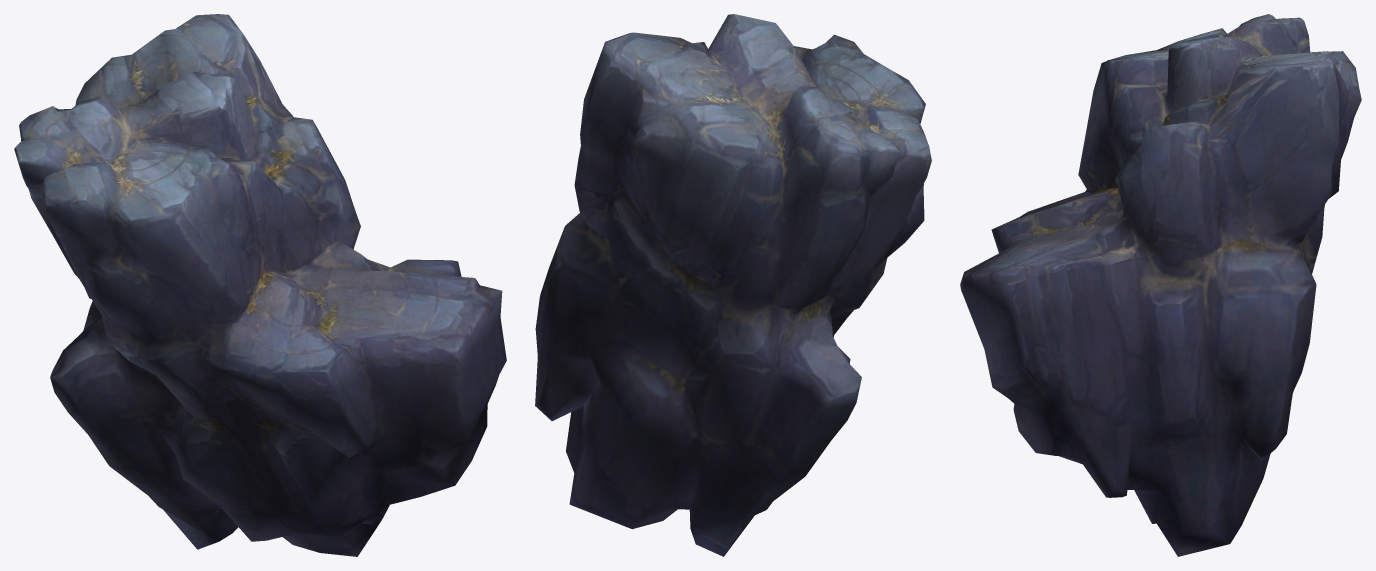
Rendered from Map01_Stone_01B.FBX.
The picture shows the model from 3 angles, left to right: view 1: azimuth 30°, elevation 25°; view 2: azimuth 150°, elevation 25°; view 3: azimuth 270°, elevation 25°; orthographic projection. The views are drawn at different scales.
Visible parts, largest first — view 1: Map01_Stone_01B; view 2: Map01_Stone_01B; view 3: Map01_Stone_01B.
Boxes of the visible parts, x1,y1,x2,y2 form: Map01_Stone_01B: (14, 14, 506, 556); Map01_Stone_01B: (535, 14, 931, 556); Map01_Stone_01B: (960, 14, 1361, 556).
Size of the model in its own units: 246 by 316 by 247.
